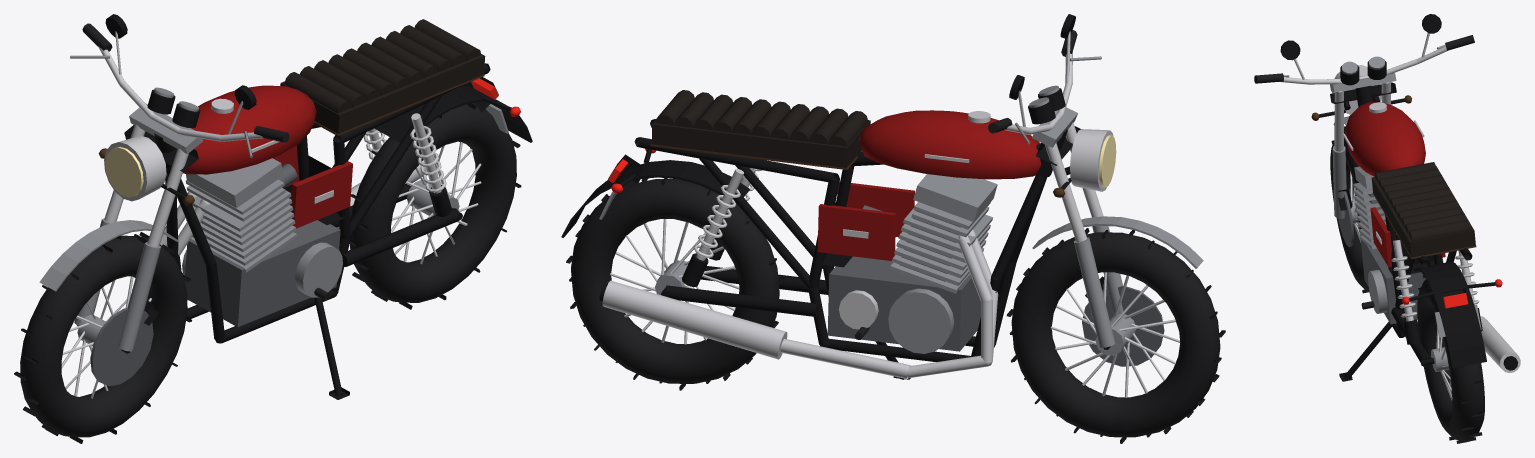
File: biblioteca_moto.glb
3 renders of one model, left to right at view 1: azimuth 30°, elevation 25°; view 2: azimuth 150°, elevation 25°; view 3: azimuth 270°, elevation 25°, orthographic. The views are drawn at different scales.
Parts seen in each view (by area): view 1: moto_julia; view 2: moto_julia; view 3: moto_julia.
Part boxes in pixels (box(x1,y1,x2,y2)): moto_julia: box(14, 14, 532, 443); moto_julia: box(561, 14, 1225, 443); moto_julia: box(1254, 14, 1520, 443).
Size of the model in its own units: 2.05 by 1.29 by 1.04.
